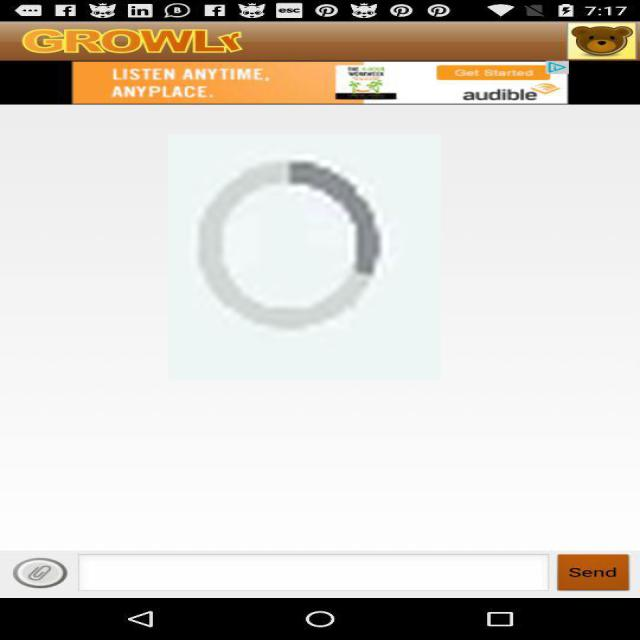misdirection: (168, 134, 441, 381)
